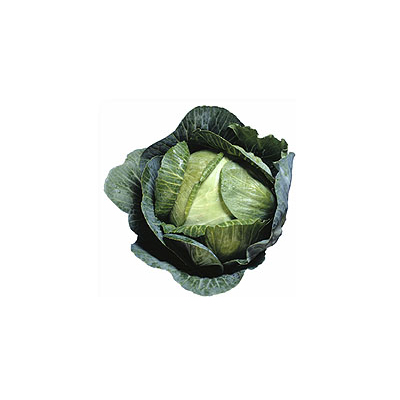cabbage: (105, 102, 296, 298)
